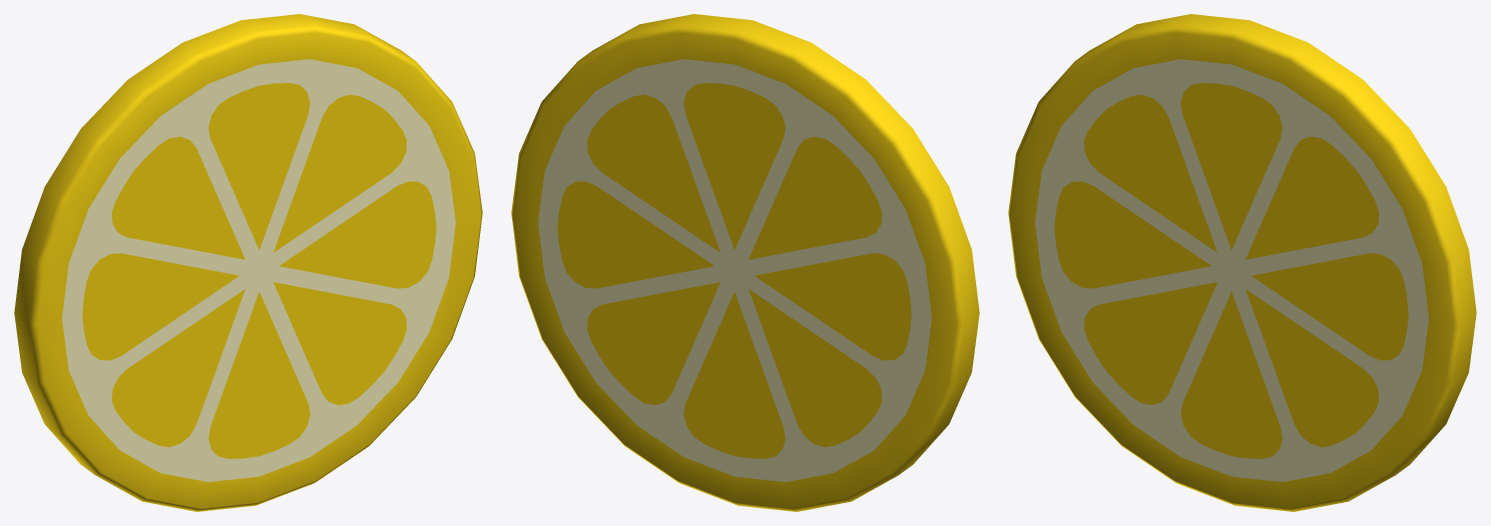
The model's file is Town_18_Limon_Slice_1.glb.
3 views of the same model, side by side, from view 1: azimuth 30°, elevation 25°; view 2: azimuth 150°, elevation 25°; view 3: azimuth 330°, elevation 25° (orthographic).
Visible parts, largest first — view 1: Town_18_Limon_Slice_1; view 2: Town_18_Limon_Slice_1; view 3: Town_18_Limon_Slice_1.
Boxes of the visible parts, x1,y1,x2,y2 form: Town_18_Limon_Slice_1: [14, 14, 482, 511]; Town_18_Limon_Slice_1: [511, 14, 979, 511]; Town_18_Limon_Slice_1: [1008, 14, 1476, 511].
Size of the model in its own units: 0.1055 by 0.1055 by 0.00877.
Materials: 1 (1 with a texture image).
